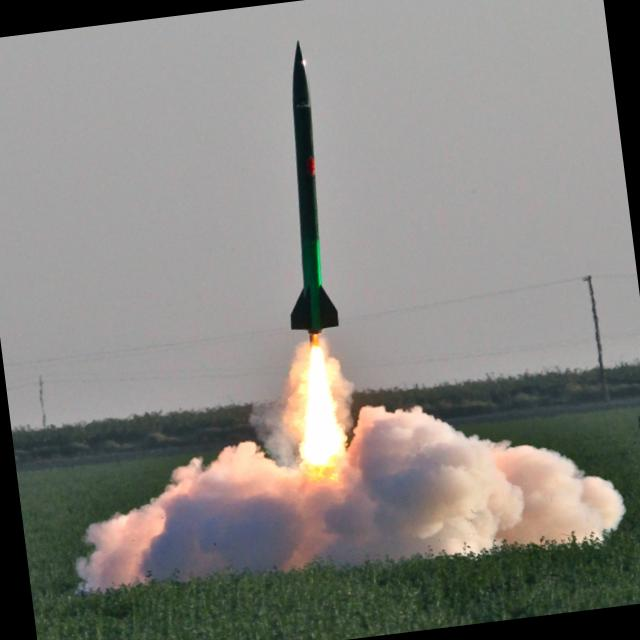rocket: (244, 28, 363, 482)
